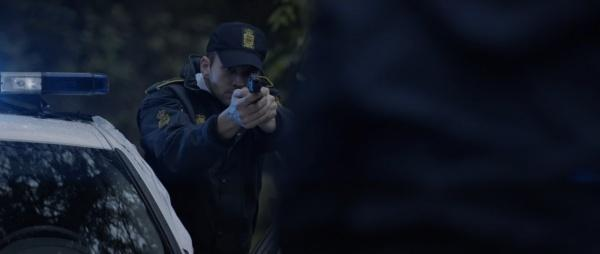Gun: (246, 73, 263, 93)
